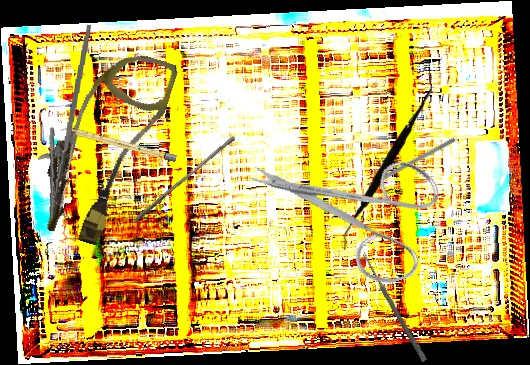Cannula: (30, 37, 180, 254)
Iris Scissors: (243, 113, 463, 317)
Needle Holder: (33, 22, 93, 221)
Pusher: (132, 132, 237, 227), (355, 136, 456, 194)
Scalpel Handle: (61, 124, 177, 163)
Spatula Surgical: (334, 73, 440, 250)
Surgical Spoon: (360, 251, 428, 363)
